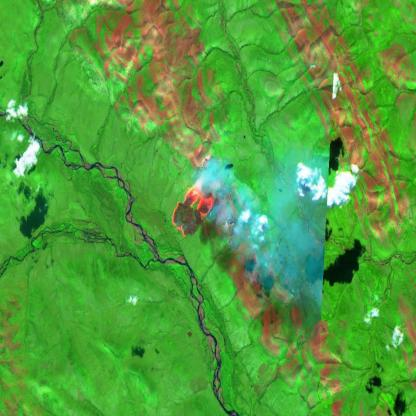fire: (170, 174, 216, 240)
